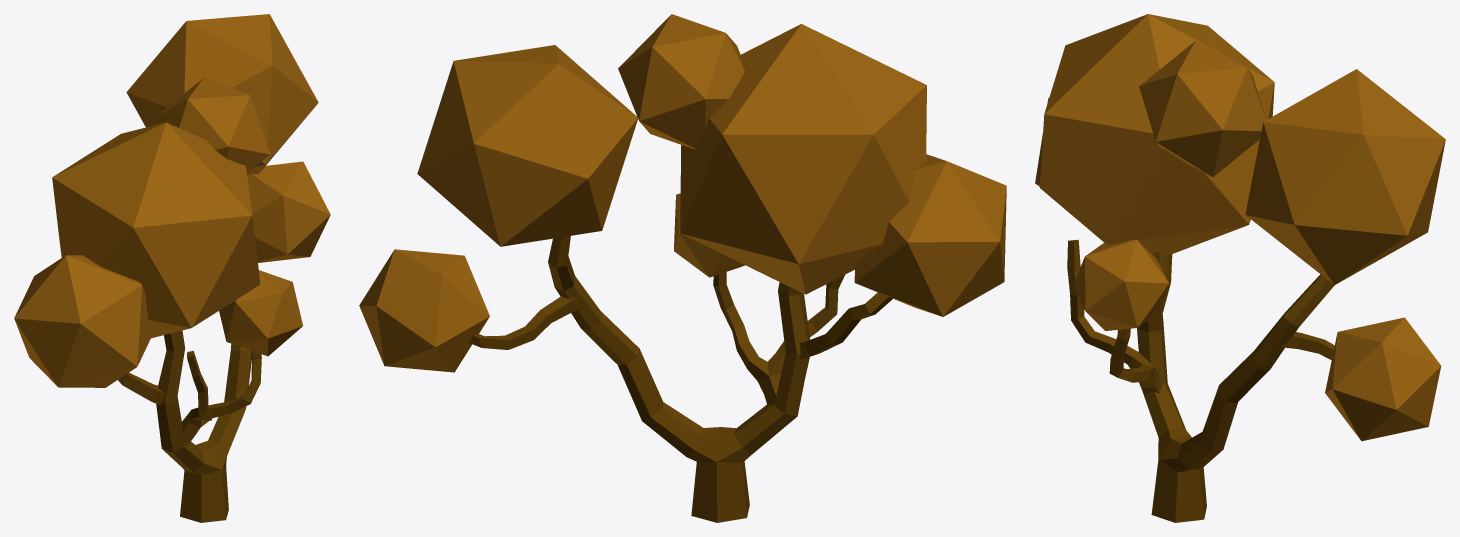
Rendered from Tree.gltf.
3 views of the same model, side by side, from view 1: azimuth 30°, elevation 25°; view 2: azimuth 150°, elevation 25°; view 3: azimuth 270°, elevation 25° (orthographic). The views are drawn at different scales.
Visible parts, largest first — view 1: Tree_lp_11; view 2: Tree_lp_11; view 3: Tree_lp_11.
Boxes of the visible parts, x1,y1,x2,y2 form: Tree_lp_11: (14, 14, 330, 522); Tree_lp_11: (359, 14, 1006, 522); Tree_lp_11: (1035, 14, 1445, 522).
Bounding box in the file's own units: 27.98 × 26.54 × 20.8.
